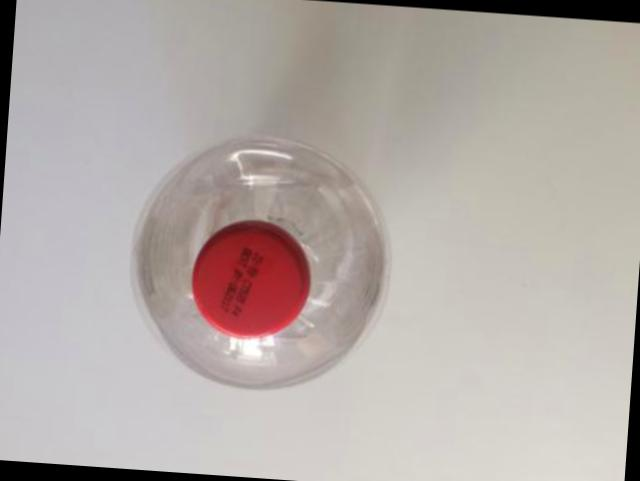plastic: (134, 135, 385, 384)
